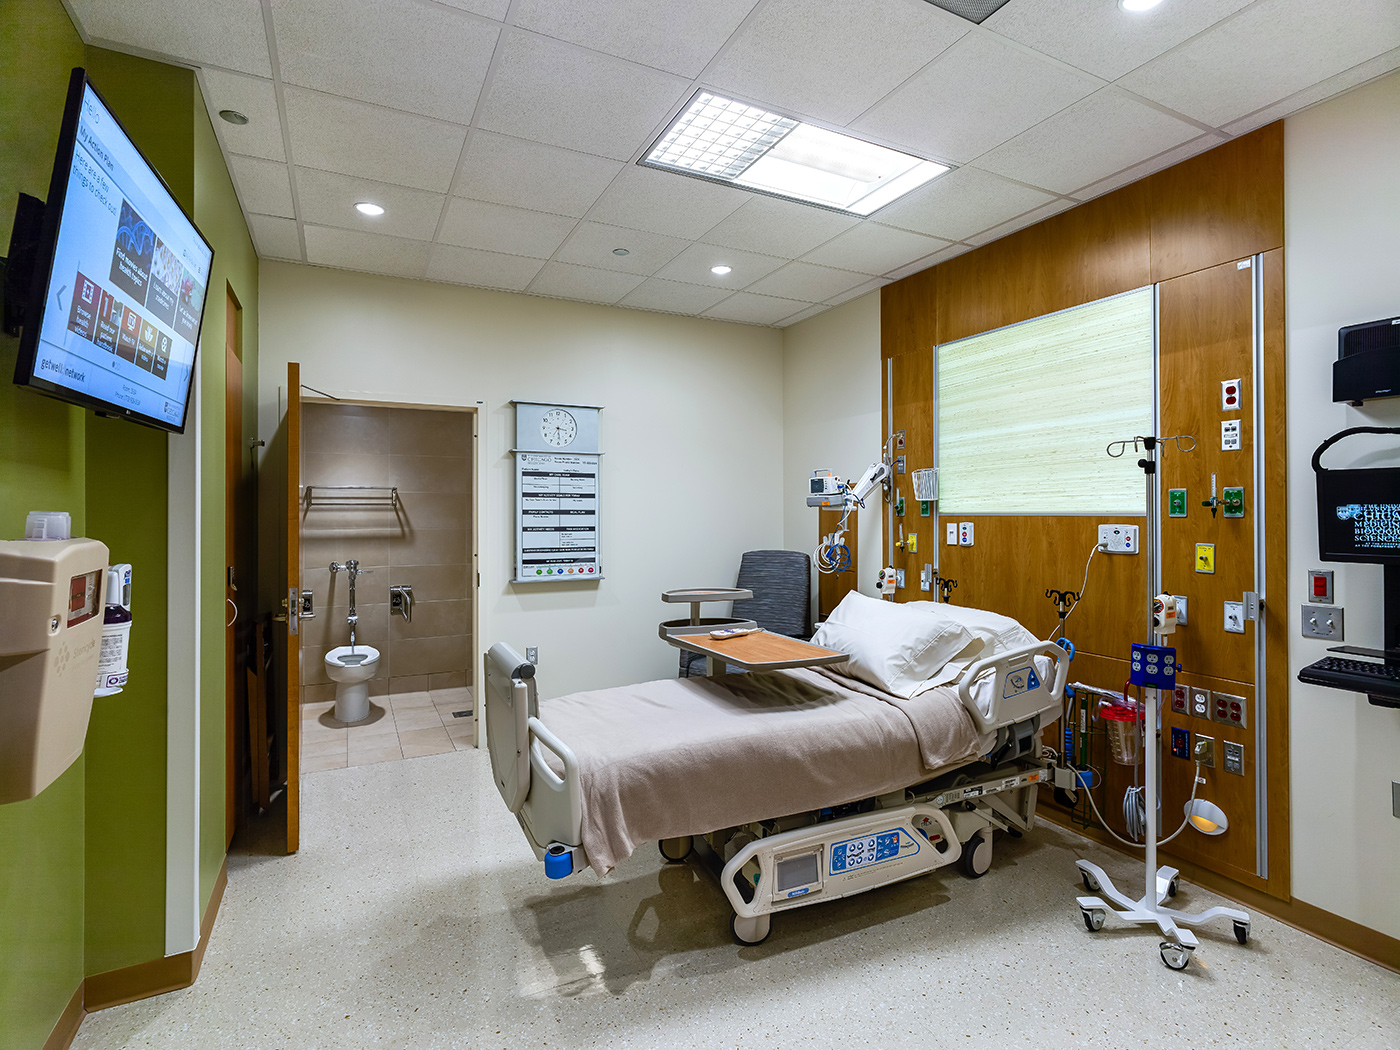TV: (1, 63, 222, 433)
bedrail: (721, 804, 973, 925), (963, 640, 1070, 730)
chair: (679, 548, 817, 676)
computer: (1318, 467, 1400, 561)
dispenser: (91, 561, 136, 700)
door_handle: (272, 593, 284, 634), (299, 592, 314, 621)
foot_board: (478, 644, 577, 876)
handle: (226, 596, 240, 631)
hospital_bed: (482, 585, 1076, 949)
iv_pole: (1105, 433, 1198, 909), (1045, 583, 1083, 642)
keyboard: (1297, 656, 1400, 699)
light_switch: (1297, 600, 1348, 644)
medical_waste_container: (1, 513, 103, 808)
overbed_table: (657, 586, 846, 679)
restroom_assist_bar: (389, 586, 417, 625)
toilet: (324, 645, 383, 722)
toilet_handle: (335, 556, 370, 575)
